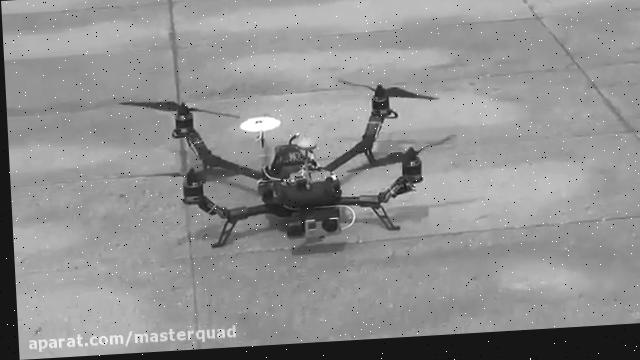drone: (111, 71, 455, 257)
